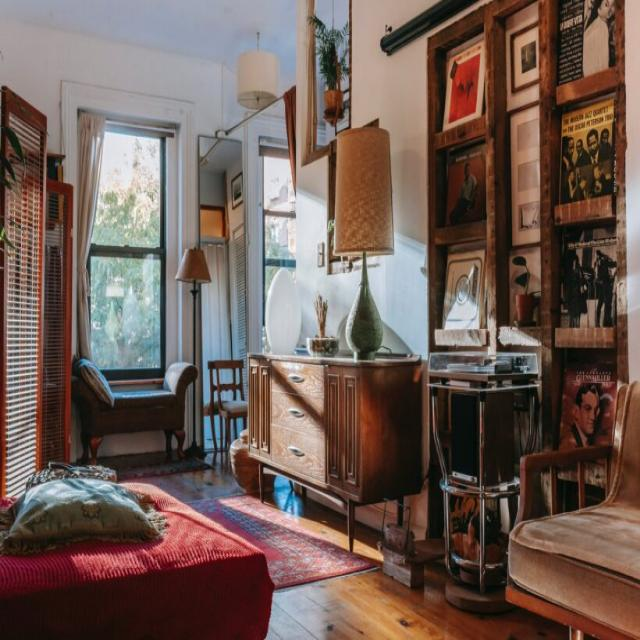vintage chair: (498, 382, 640, 639)
vintage shelf: (235, 340, 431, 554)
